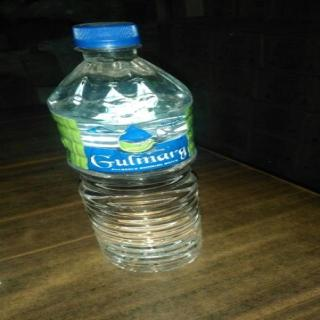Plastic-bottle: (43, 22, 231, 274)
